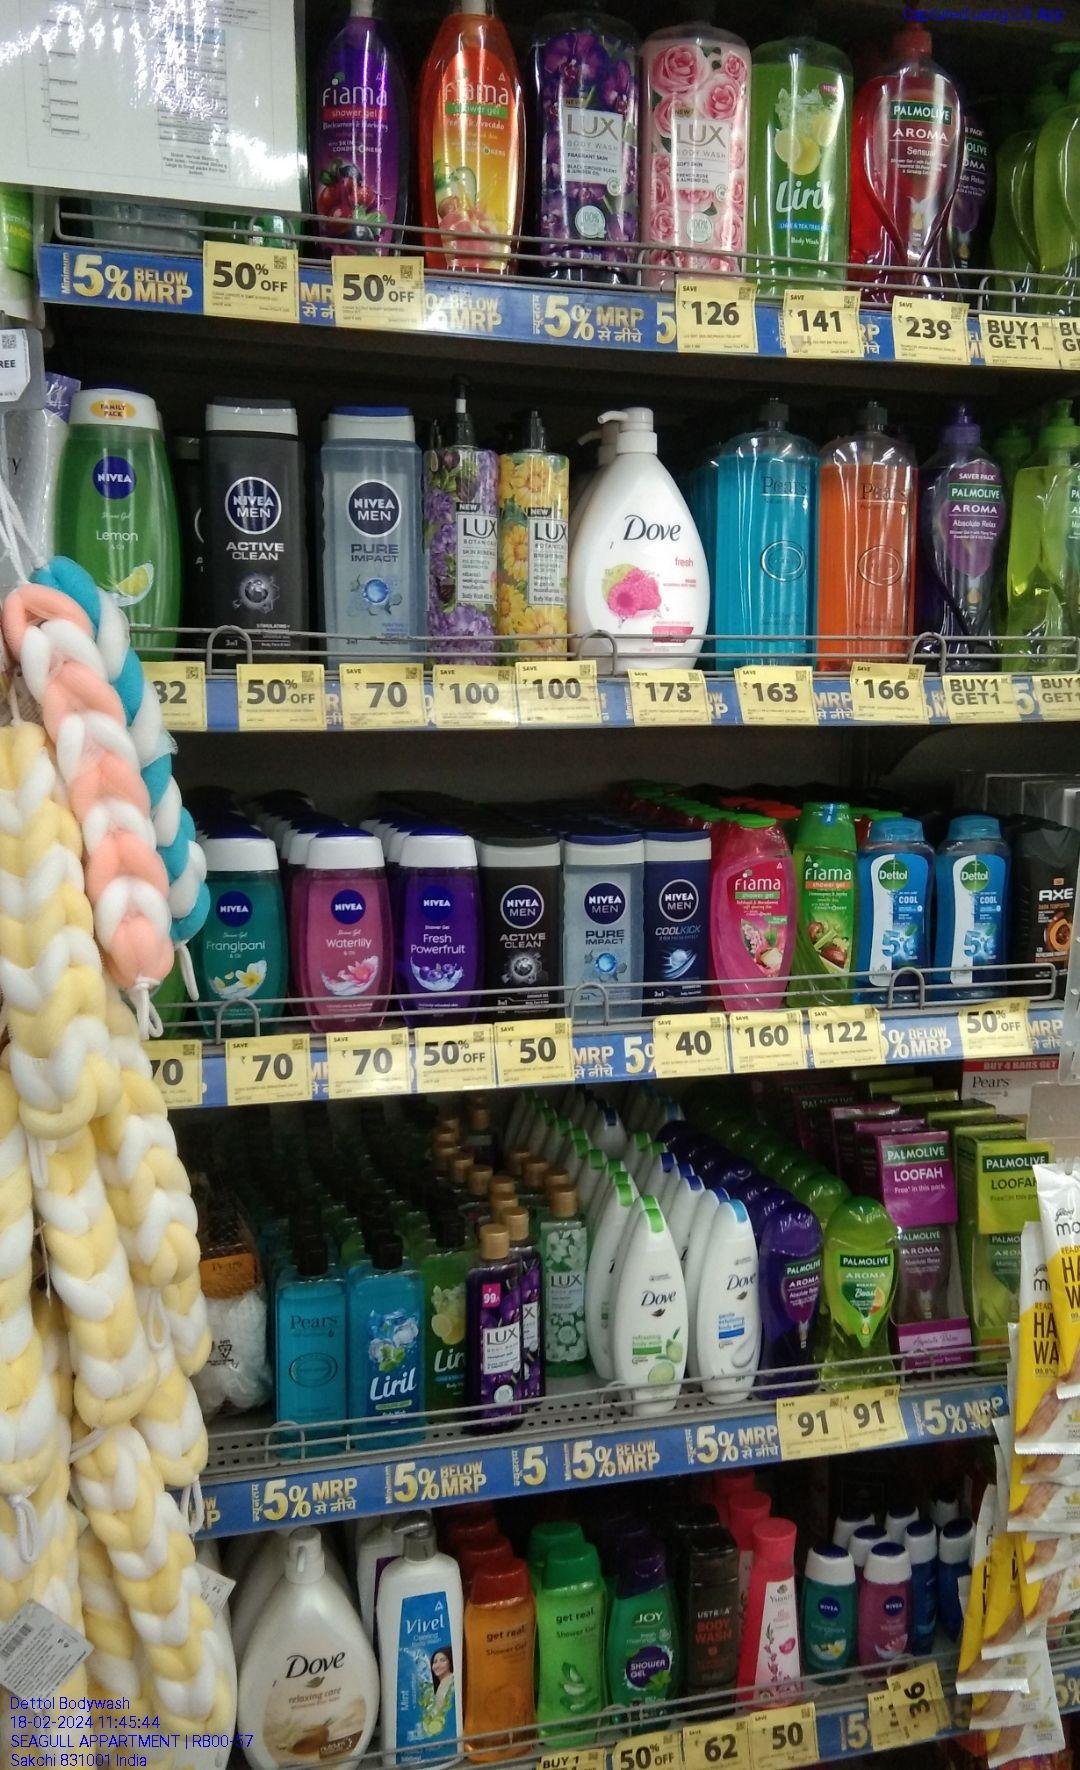Dettol_Bodywash_Cool: (936, 817, 1007, 1000), (859, 818, 927, 995)
Dove_Gentle_Exfoliating_Body_Wash_250ML: (698, 1200, 764, 1403)
Dove_Refreshing_Body_Wash_250ML: (612, 1206, 693, 1413)
Fiama_Shower_Gel_Patchouli_and_Macadamia_250ML: (711, 814, 793, 1014)
Get_Real_Shower_Gel_Moisturising_Glycerin_300ML: (463, 1559, 537, 1757)
Joy_Shower_Gel_Mint_and_Eucalyptus_250ML: (604, 1534, 678, 1730)
Liril_Cooling_Mint_Body_Wash_250ML: (353, 1236, 429, 1450)
Lux_Black_Orchid_Scent_and_Juniper_Oil_Body_Wash_245ML: (468, 1223, 529, 1436)
Lux_Body_Wash_Skin_Detox_Freesia_Scent_and_Alove_Vera_245ML: (536, 1183, 592, 1382)
Nivea_Shower_Gel_Frangipani_and_Oil_250ML: (195, 834, 286, 1034)
Nivea_Shower_Gel_Fresh_Powerfruit_250ML: (396, 826, 483, 1023)
Nivea_Shower_Gel_Lemon_and_Oil_250ML: (67, 383, 177, 650)
Nivea_Shower_Gel_Waterlily_and_Oil_250ML: (297, 826, 390, 1032)
Palmolive_Aroma_Morning_Tonic_Shower_Gel_250ML: (825, 1197, 895, 1389)
Palmolive_Aroma_Relax_250ML: (768, 1206, 817, 1397)
Pears_Pure_Glycerin_and_Mint_Extracts_Body_Wash_250ML: (276, 1250, 348, 1458)
